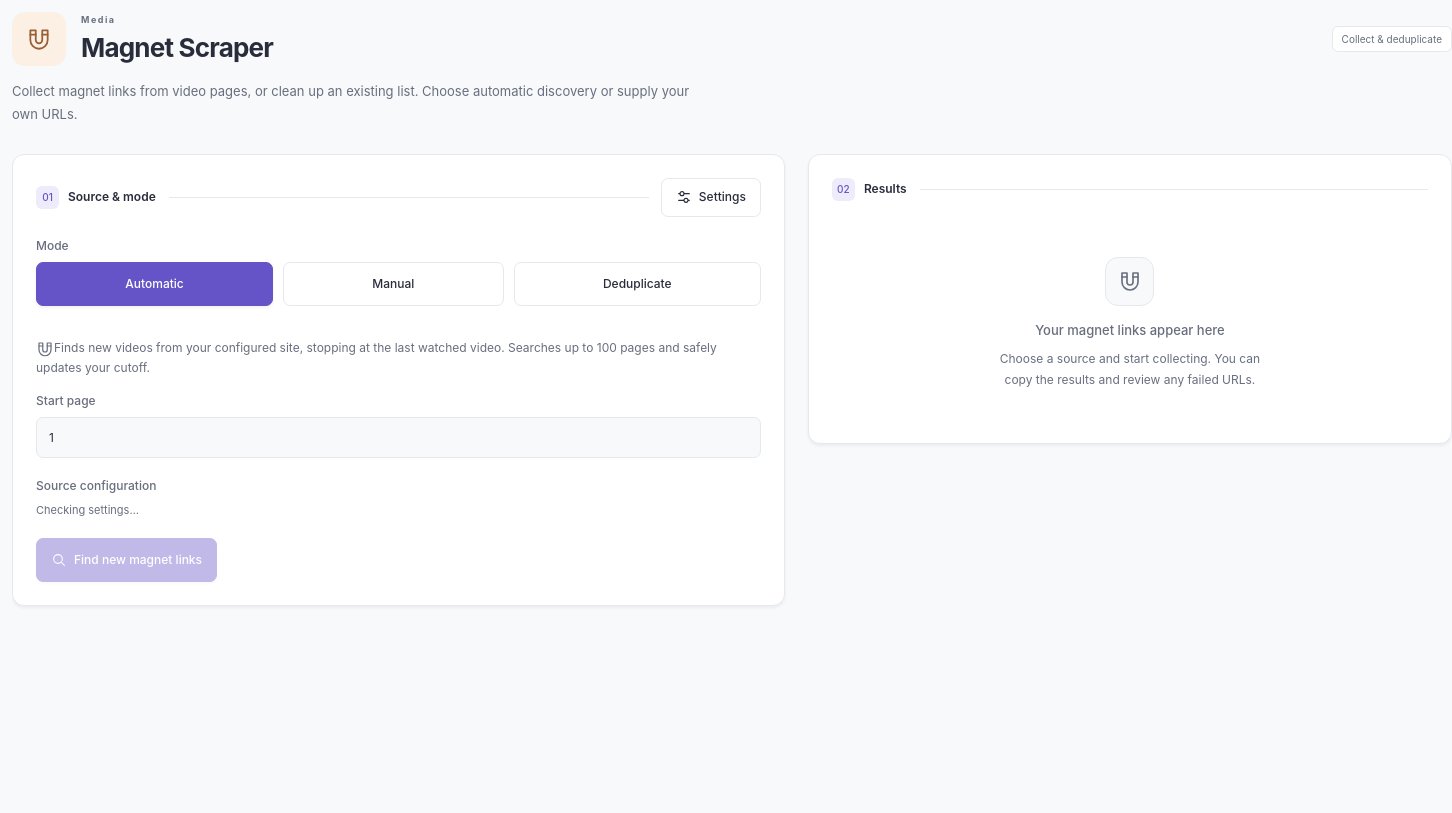
Test: saves settings through the API and makes an unconfigured source ready to run
The image size is (1452, 813).
Click the button "Settings" at (711, 197), box [661, 178, 761, 217]
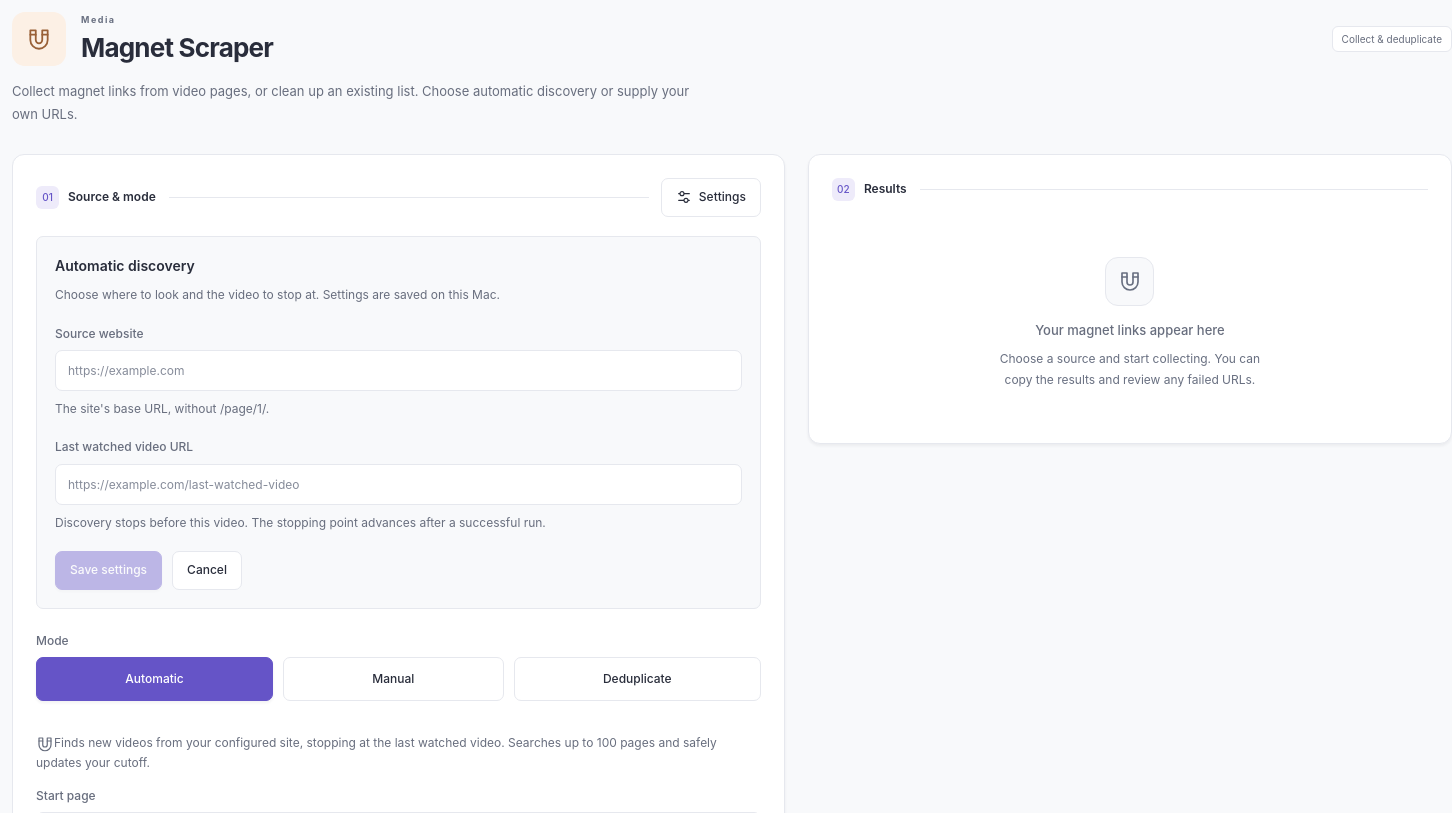
Expected: the field labelled "Source website" is shown
Type "https://videos.example/catalog" into the field labelled "Source website" at (398, 370), box [55, 350, 742, 391]
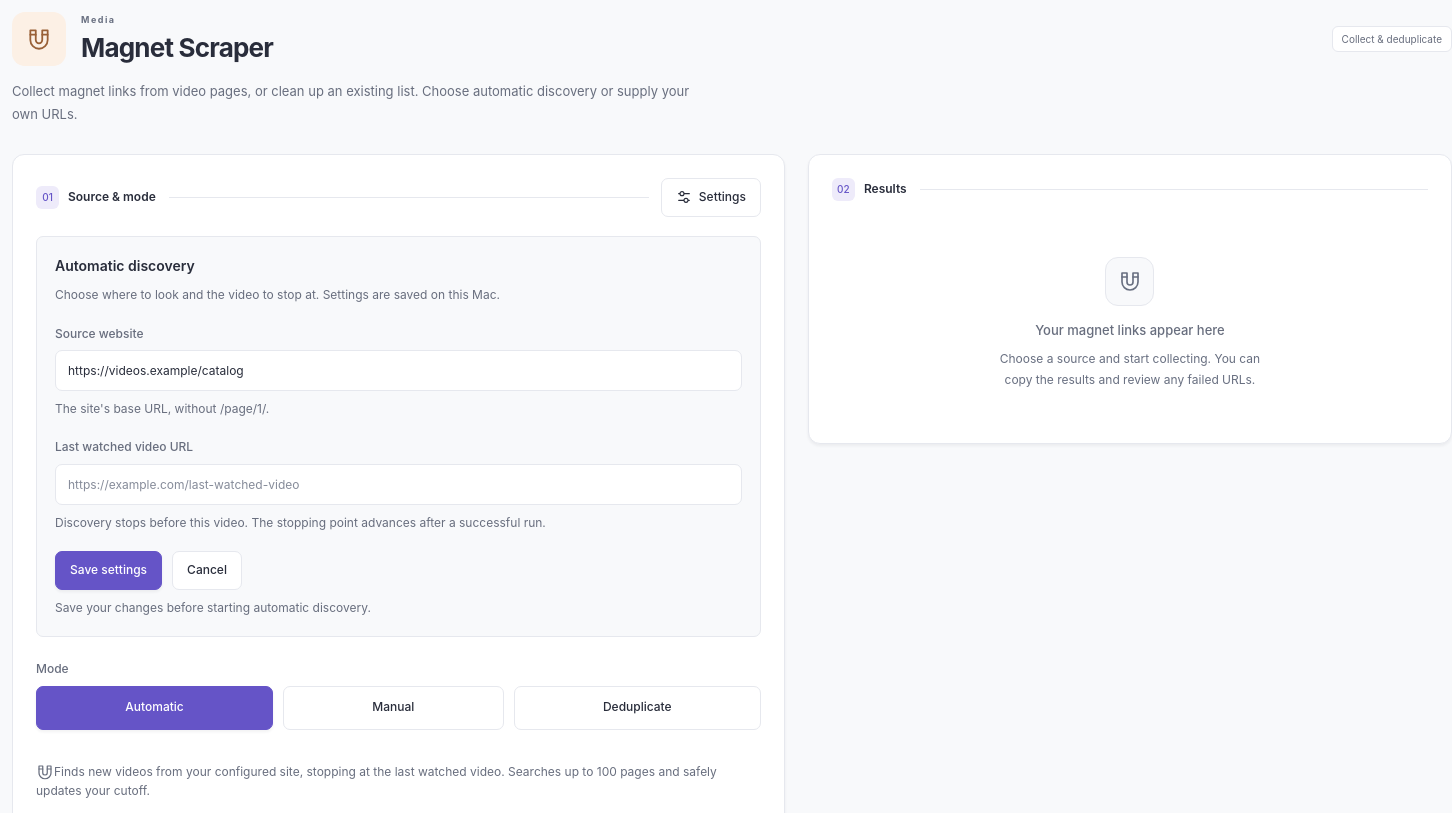
Type "https://videos.example/watch/old" into the field labelled "Last watched video URL" at (398, 484), box [55, 464, 742, 505]
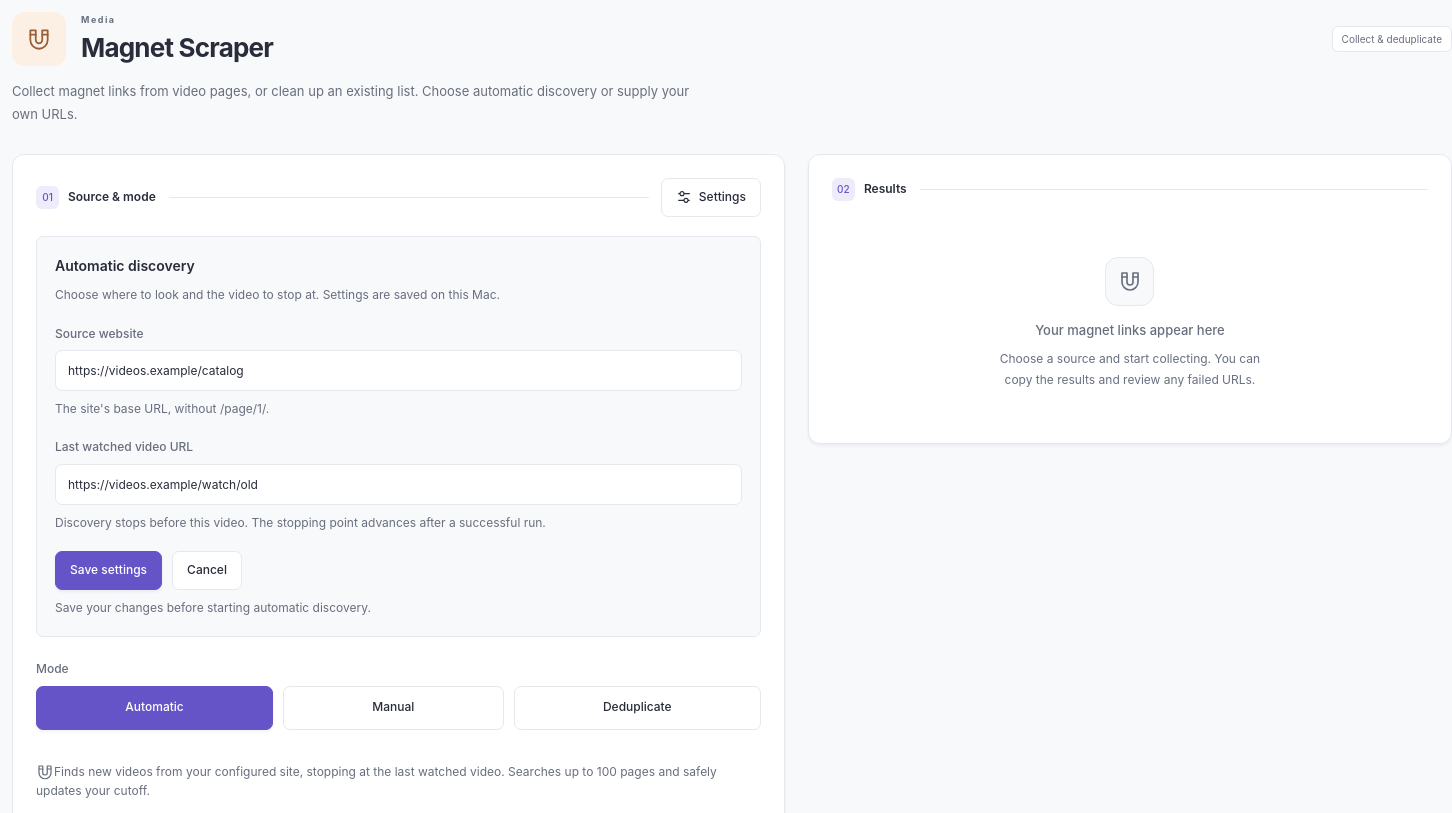
Click the button "Save settings" at (109, 571), box [55, 551, 162, 590]
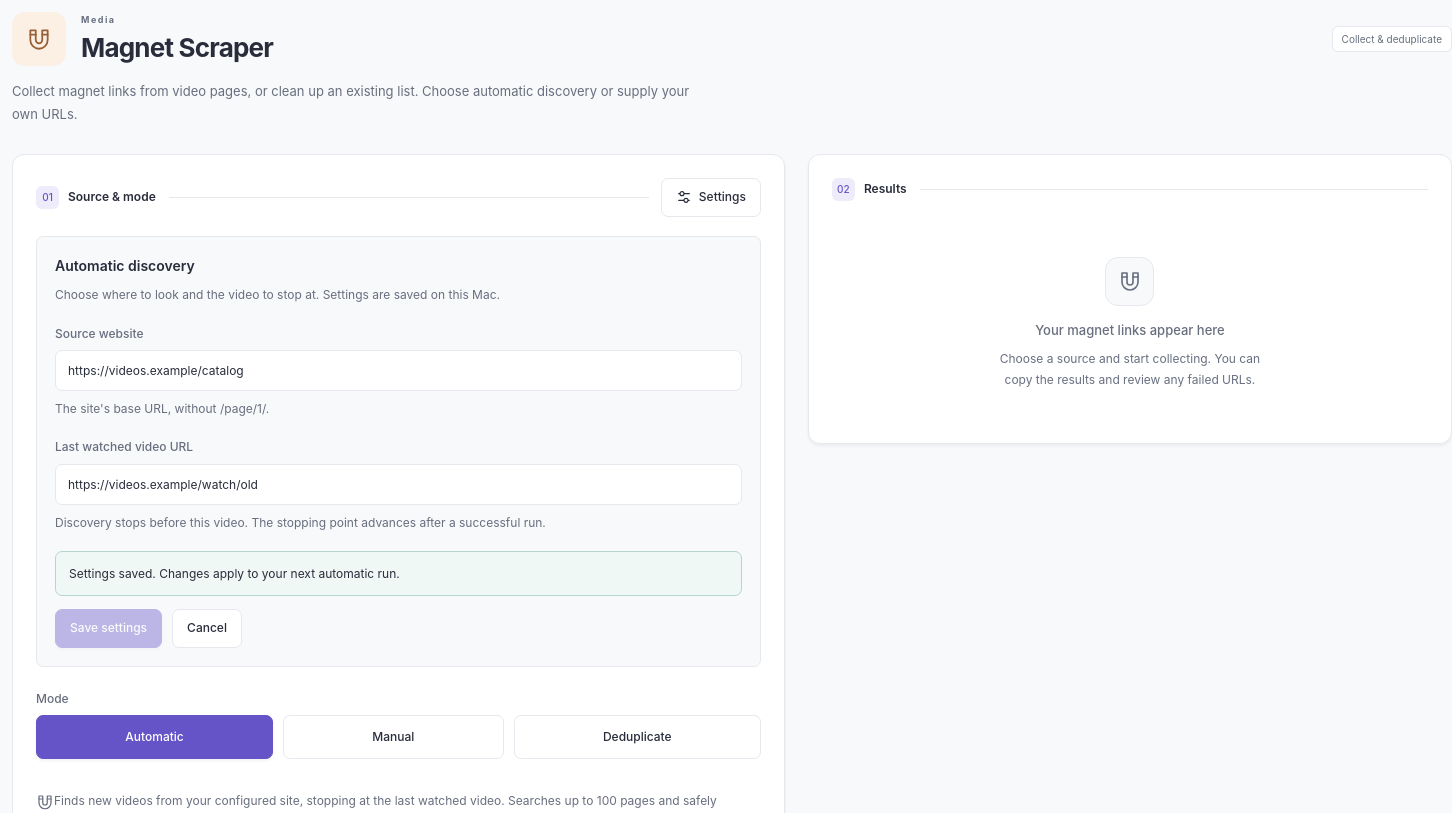
Expected: the form named "Magnet settings" is shown, [36, 236, 761, 667]
Expected: the message reads "Settings saved. Changes apply to your next automatic run.", [69, 566, 400, 581]
